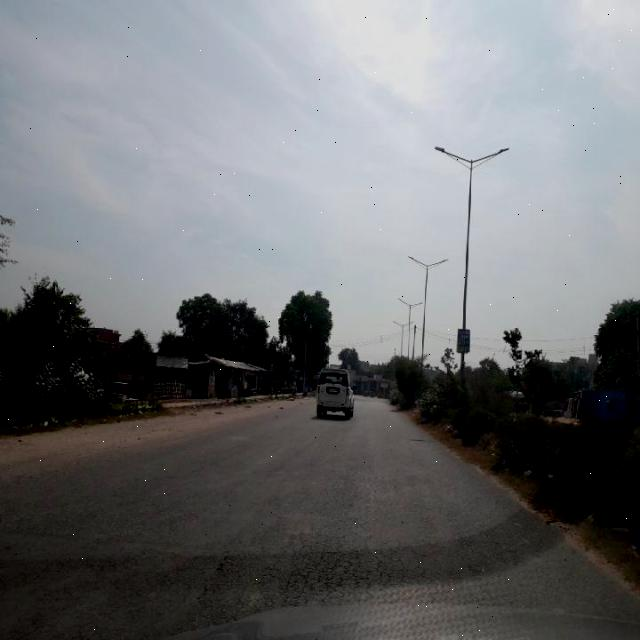D20: (236, 508, 446, 592)
